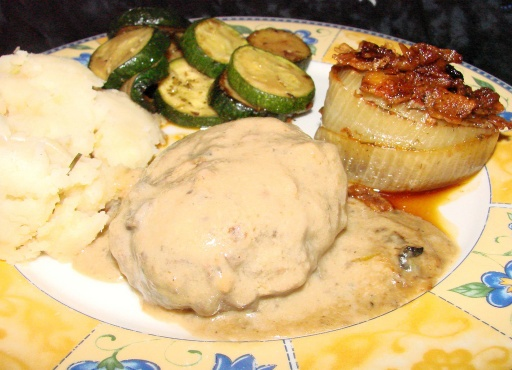background: (0, 3, 410, 183)
